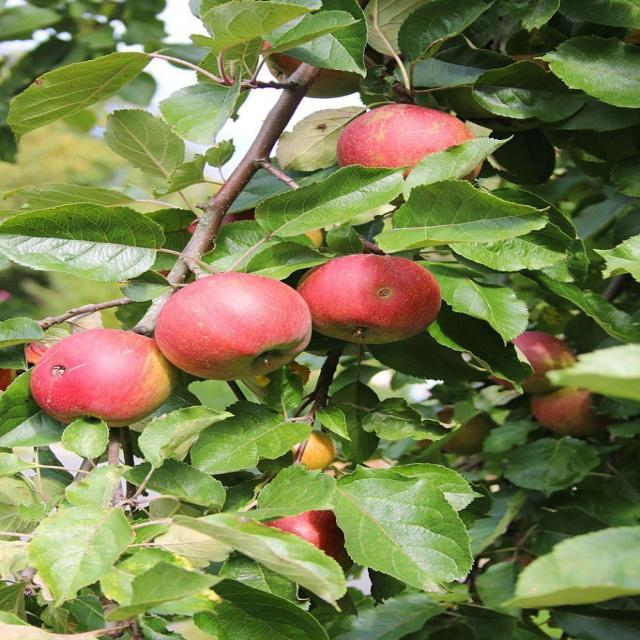Red Apple: (158, 277, 311, 377), (346, 104, 487, 184), (311, 258, 441, 344), (44, 333, 173, 419), (258, 500, 359, 564), (504, 333, 572, 386), (539, 389, 607, 434)
